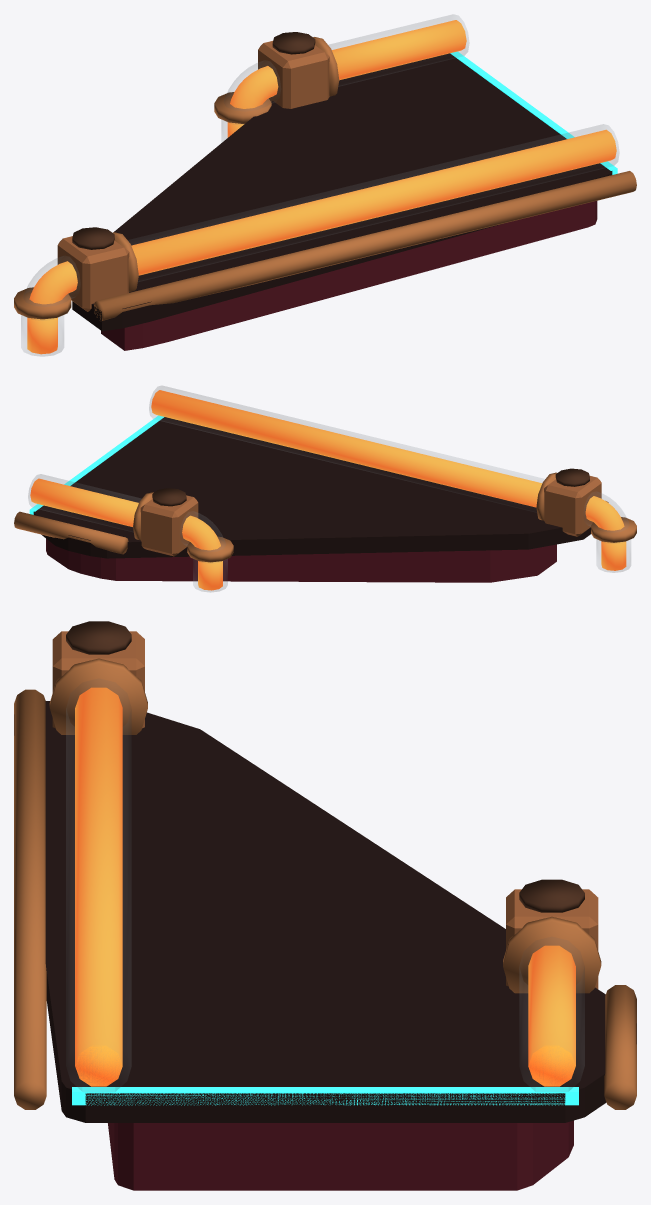
File: Pier_Angled_60.glb
3 renders of one model, top to bottom at view 1: azimuth 30°, elevation 25°; view 2: azimuth 150°, elevation 25°; view 3: azimuth 270°, elevation 25°, orthographic. The views are drawn at different scales.
Visible parts, largest first — view 1: CP_Pier_Angled_60; view 2: CP_Pier_Angled_60; view 3: CP_Pier_Angled_60.
Boxes of the visible parts, left/top/right/bottom form: CP_Pier_Angled_60: left=14, top=14, right=636, bottom=356; CP_Pier_Angled_60: left=14, top=386, right=636, bottom=592; CP_Pier_Angled_60: left=14, top=621, right=636, bottom=1190.
Bounding box in the file's own units: 6.91 × 1.31 × 4.18.
